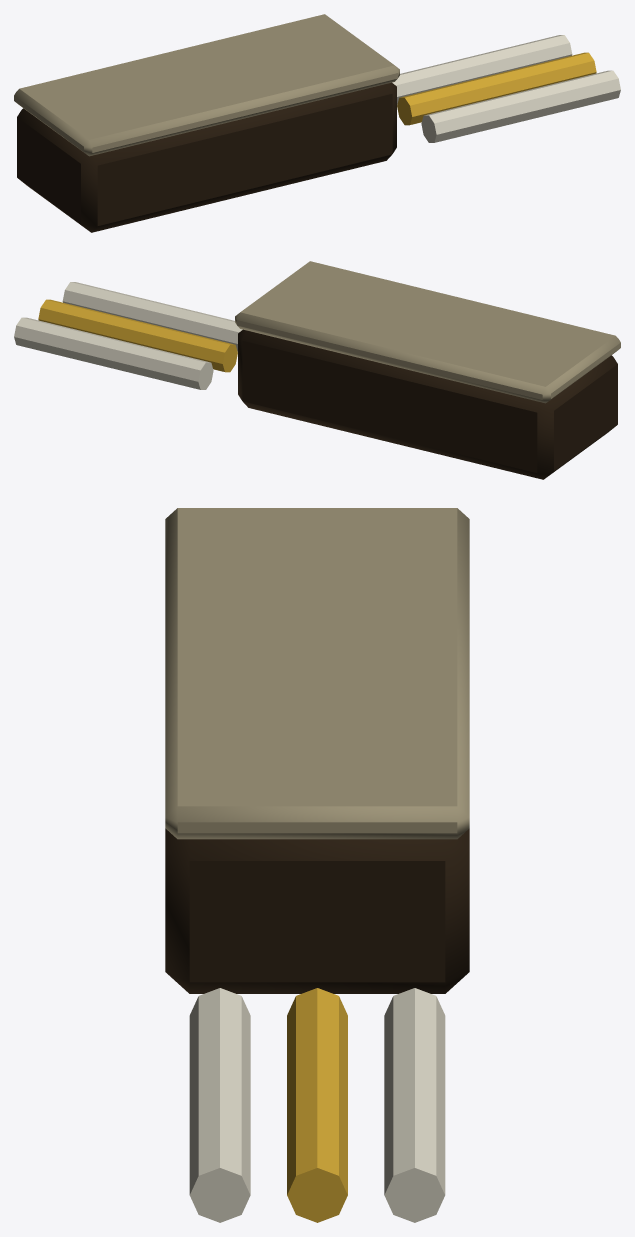
Rendered from school-chalk-eraser.glb.
3 renders of one model, top to bottom at view 1: azimuth 30°, elevation 25°; view 2: azimuth 150°, elevation 25°; view 3: azimuth 270°, elevation 25°, orthographic. The views are drawn at different scales.
Parts seen in each view (by area): view 1: eraser__felt, chalk__paint; view 2: eraser__felt, chalk__paint; view 3: eraser__felt, chalk__paint.
Boxes of the visible parts, x1,y1,x2,y2 form: eraser__felt: (14,14,399,232); chalk__paint: (392,35,620,142); eraser__felt: (235,261,620,479); chalk__paint: (14,282,242,389); eraser__felt: (165,508,469,993); chalk__paint: (189,988,445,1222).
Bounding box in the file's own units: 0.205 × 0.035 × 0.05.
